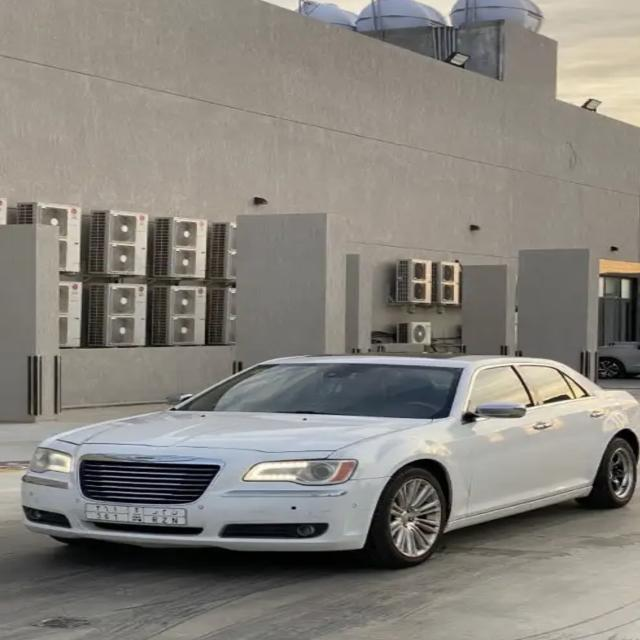license_plate: (85, 503, 187, 525)
